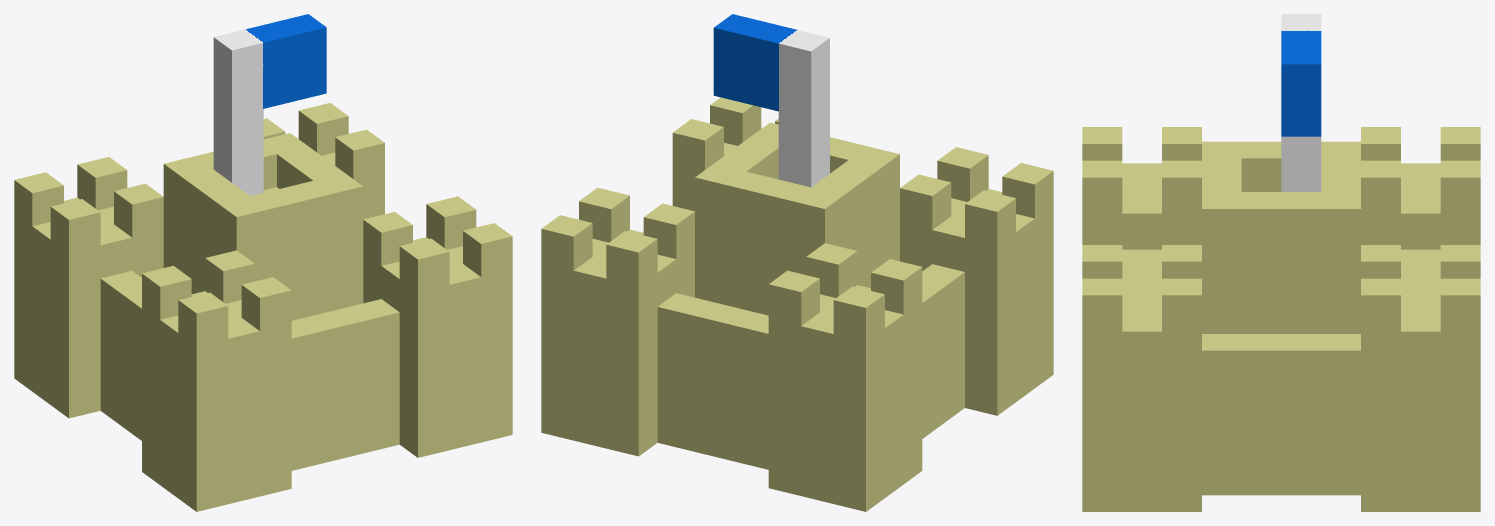
Rendered from SandCastle.fbx.
3 renders of one model, left to right at view 1: azimuth 30°, elevation 25°; view 2: azimuth 150°, elevation 25°; view 3: azimuth 270°, elevation 25°, orthographic. The views are drawn at different scales.
Size of the model in its own units: 10 by 11 by 10.
